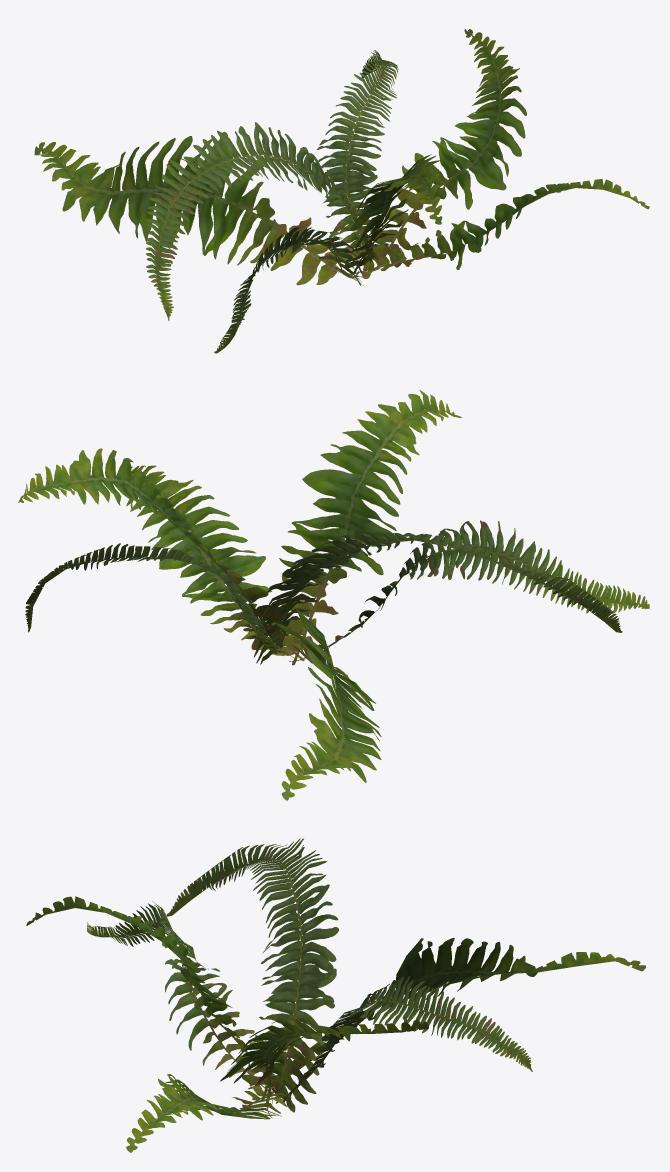
File: fern_02_d.glb
The picture shows the model from 3 angles, top to bottom: view 1: azimuth 30°, elevation 25°; view 2: azimuth 150°, elevation 25°; view 3: azimuth 270°, elevation 25°; orthographic projection. The views are drawn at different scales.
Visible parts, largest first — view 1: fern_02_d__lod0; view 2: fern_02_d__lod0; view 3: fern_02_d__lod0.
Part boxes in pixels (x1=…): fern_02_d__lod0: x1=34, y1=29, x2=649, y2=353; fern_02_d__lod0: x1=18, y1=390, x2=649, y2=800; fern_02_d__lod0: x1=26, y1=838, x2=645, y2=1152.
Size of the model in its own units: 0.5728 by 0.2131 by 0.5933.
Materials: 1 (1 with a texture image).
